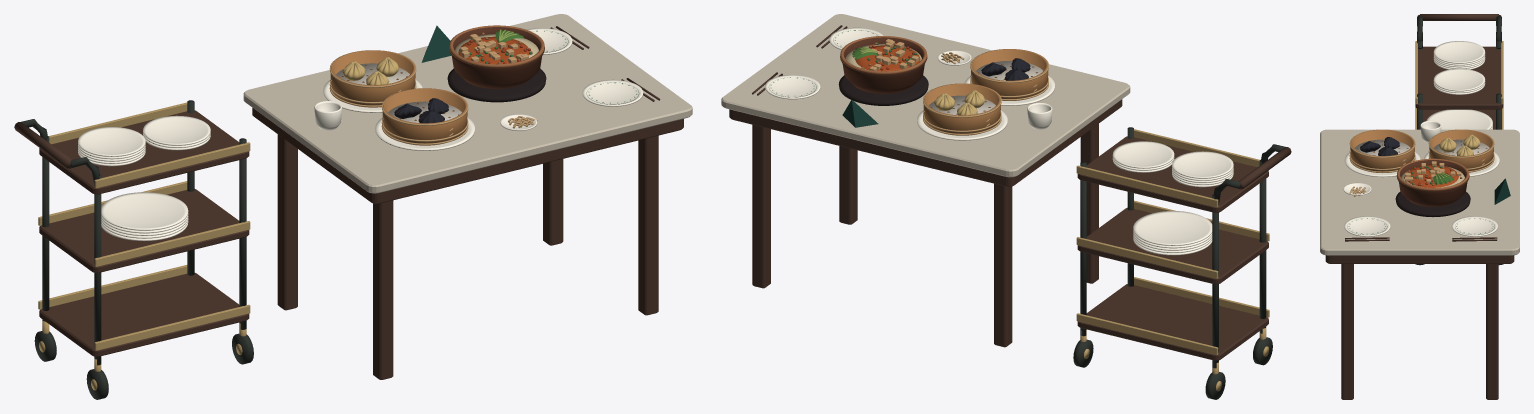
File: gallery.glb
The picture shows the model from 3 angles, left to right: view 1: azimuth 30°, elevation 25°; view 2: azimuth 150°, elevation 25°; view 3: azimuth 270°, elevation 25°; orthographic projection. The views are drawn at different scales.
Parts seen in each view (by area): view 1: HaoMeal, HaoGlaze; view 2: HaoMeal, HaoGlaze; view 3: HaoMeal, HaoGlaze.
Part boxes in pixels (x1,y1,x2,y2): HaoMeal: (14, 14, 692, 399); HaoGlaze: (38, 25, 643, 390); HaoMeal: (721, 14, 1291, 399); HaoGlaze: (765, 27, 1269, 391); HaoMeal: (1320, 14, 1519, 399); HaoGlaze: (1343, 41, 1503, 236).
Bounding box in the file's own units: 2.26 × 0.97 × 0.91.
